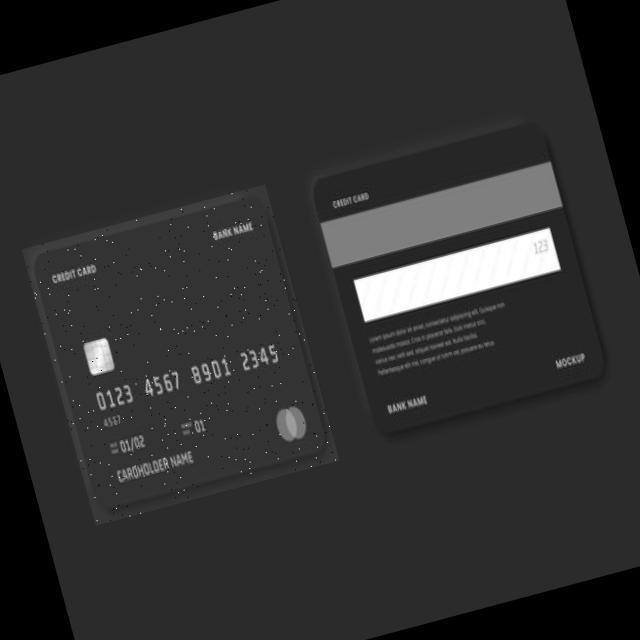payment_card: (20, 181, 340, 526), (305, 120, 606, 436)
